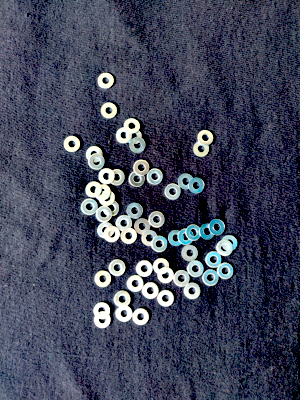circle: (62, 135, 83, 153), (125, 127, 144, 146), (94, 271, 113, 290), (108, 258, 126, 278), (188, 177, 207, 195), (177, 172, 195, 191), (86, 145, 105, 163), (93, 301, 112, 319), (113, 290, 132, 308), (115, 304, 133, 323), (133, 307, 151, 326), (192, 141, 212, 158), (164, 183, 182, 201), (115, 127, 133, 145), (81, 198, 99, 216), (151, 235, 169, 253), (157, 289, 175, 307), (202, 269, 220, 287), (129, 137, 148, 154), (87, 154, 106, 171), (149, 211, 166, 230), (94, 311, 113, 328), (126, 275, 143, 294), (173, 269, 190, 288), (197, 130, 215, 147), (97, 222, 115, 239), (209, 218, 226, 236), (141, 283, 159, 300), (153, 257, 170, 275), (157, 267, 175, 284), (184, 282, 201, 300), (186, 261, 204, 278), (182, 245, 199, 263), (200, 222, 216, 241), (221, 235, 240, 251), (109, 169, 126, 186), (95, 184, 112, 201), (127, 203, 144, 220), (168, 230, 185, 247), (136, 260, 153, 277), (98, 72, 114, 90), (100, 103, 118, 119), (133, 160, 151, 176), (86, 181, 102, 199), (99, 190, 117, 206), (102, 200, 120, 216), (116, 216, 134, 232), (142, 230, 158, 248), (186, 225, 202, 243), (99, 167, 114, 186), (124, 118, 141, 134), (129, 172, 146, 188), (148, 169, 165, 185), (96, 206, 112, 223), (121, 229, 138, 245), (135, 218, 151, 235), (179, 228, 195, 245), (206, 252, 222, 269), (217, 240, 233, 256), (218, 263, 234, 279), (105, 226, 120, 243)
